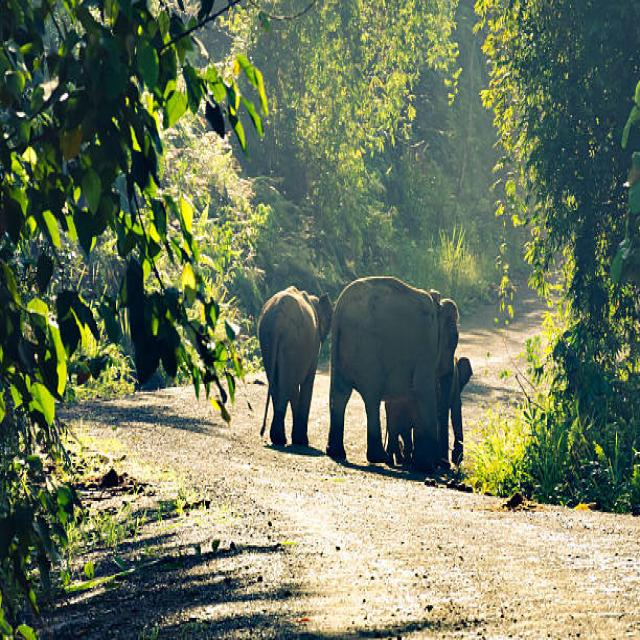Elephant: (339, 271, 490, 510), (253, 260, 334, 480)
